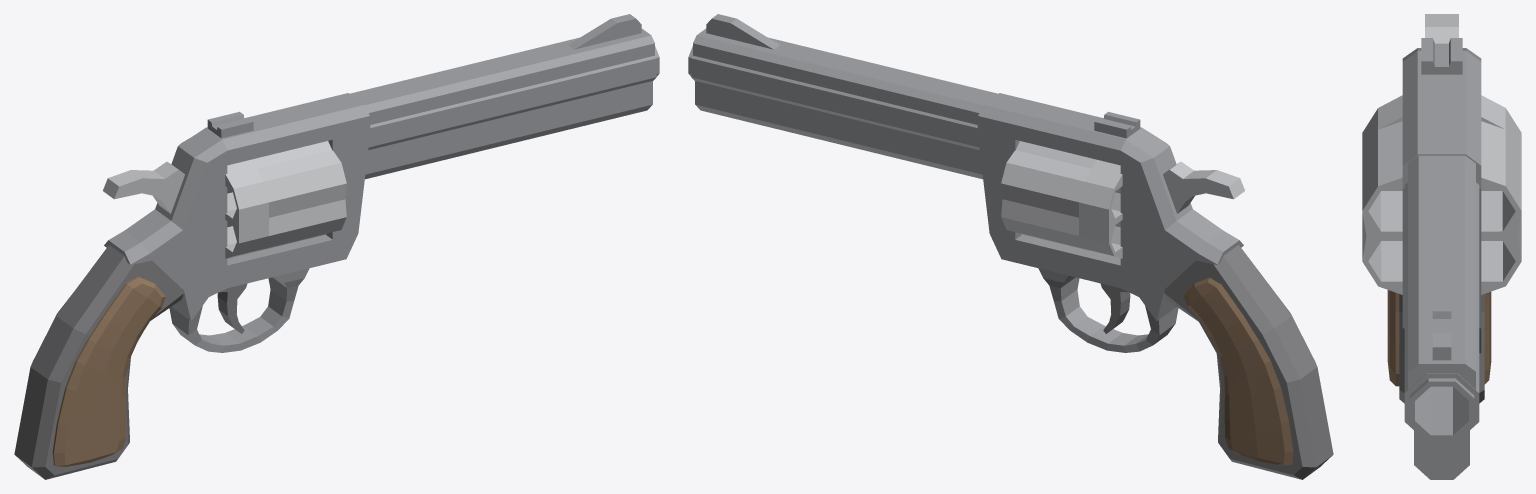
File: gun_r44.fbx
3 views of the same model, side by side, from view 1: azimuth 30°, elevation 25°; view 2: azimuth 150°, elevation 25°; view 3: azimuth 270°, elevation 25° (orthographic). The views are drawn at different scales.
Parts seen in each view (by area): view 1: Revolver_2; view 2: Revolver_2; view 3: Revolver_2.
Part boxes in pixels (box(x1,y1,x2,y2)): Revolver_2: box(14, 14, 659, 479); Revolver_2: box(688, 14, 1333, 479); Revolver_2: box(1362, 14, 1521, 479).
Bounding box in the file's own units: 27.75 × 4.12 × 13.21.
